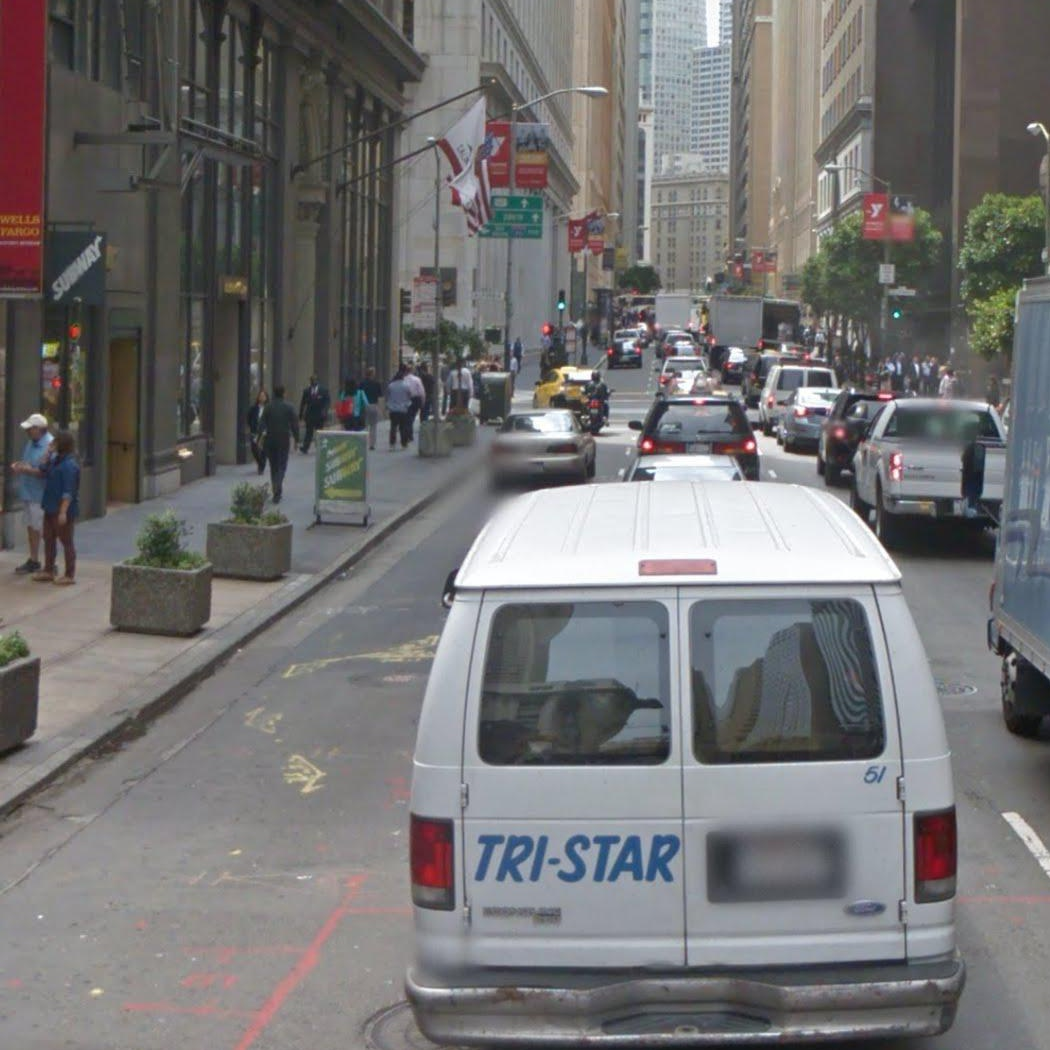No Parking: (413, 305, 436, 330)
